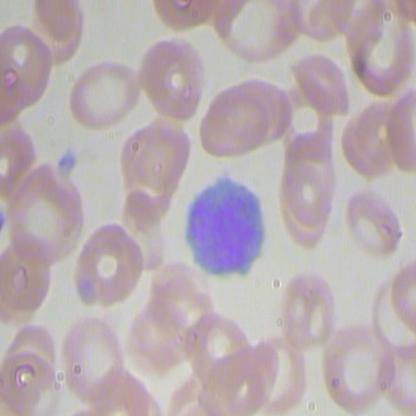Platelets: (53, 146, 82, 176)
RBC: (1, 162, 85, 270), (319, 319, 399, 415), (63, 51, 142, 136), (74, 220, 146, 310), (118, 116, 194, 200), (188, 306, 260, 392), (139, 33, 208, 121), (63, 314, 130, 404), (343, 181, 413, 261), (201, 82, 270, 162), (1, 21, 54, 117), (275, 268, 338, 345), (288, 48, 354, 117), (223, 81, 288, 150)
WBC: (176, 166, 270, 283)
